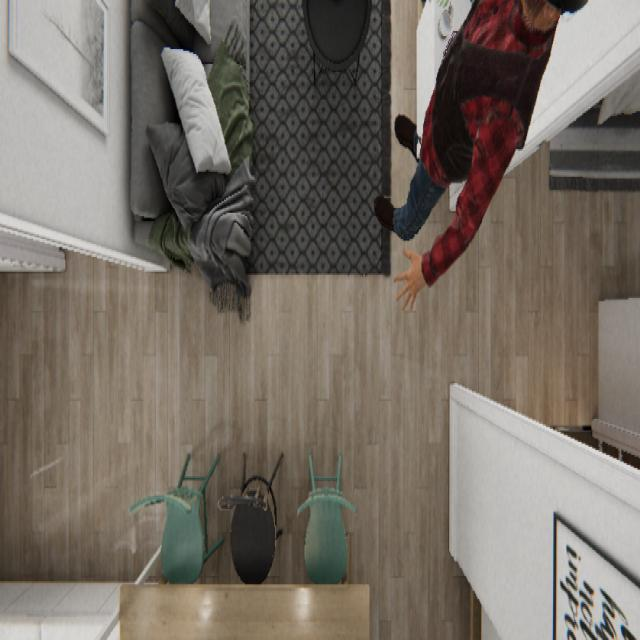Human: (373, 0, 588, 313)
